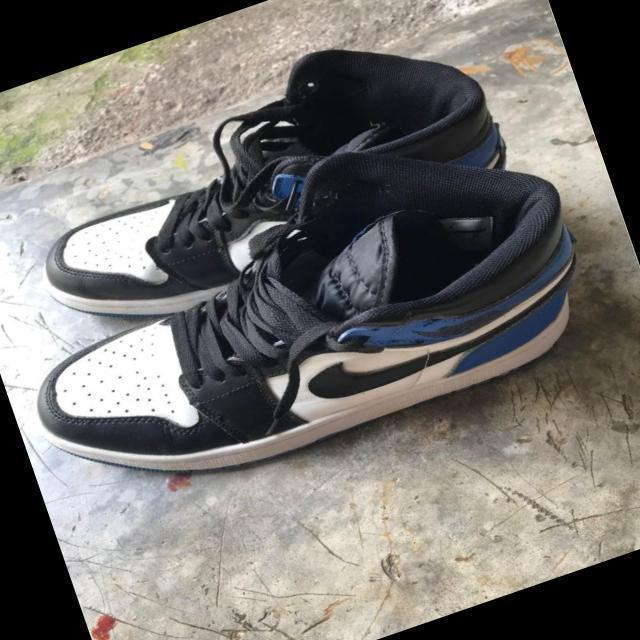nike fake jordan 1: (0, 77, 640, 529), (2, 0, 524, 353)
